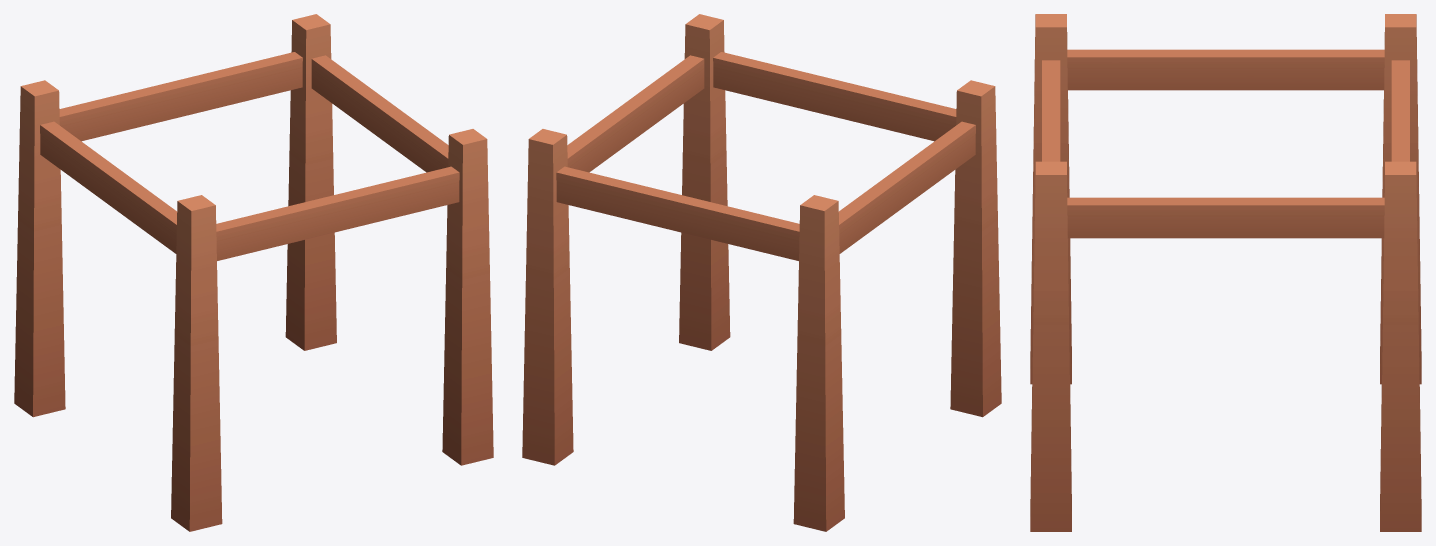
Rendered from structure.glb.
3 views of the same model, side by side, from view 1: azimuth 30°, elevation 25°; view 2: azimuth 150°, elevation 25°; view 3: azimuth 270°, elevation 25° (orthographic). The views are drawn at different scales.
Parts seen in each view (by area): view 1: structure; view 2: structure; view 3: structure.
Part boxes in pixels (x1,y1,x2,y2): structure: (14, 14, 493, 531); structure: (522, 14, 1001, 531); structure: (1030, 14, 1421, 531).
Size of the model in its own units: 0.5 by 0.5 by 0.5.
Materials: 1 (1 with a texture image).
